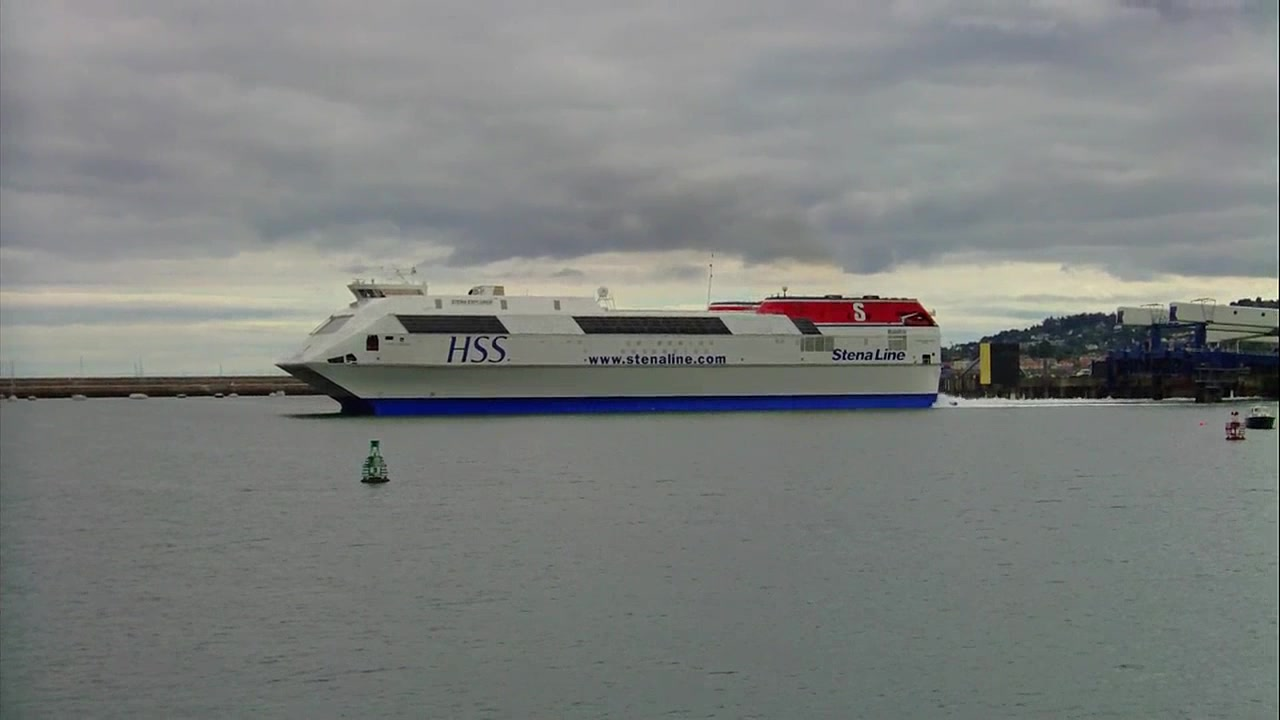boat: (280, 274, 950, 417)
